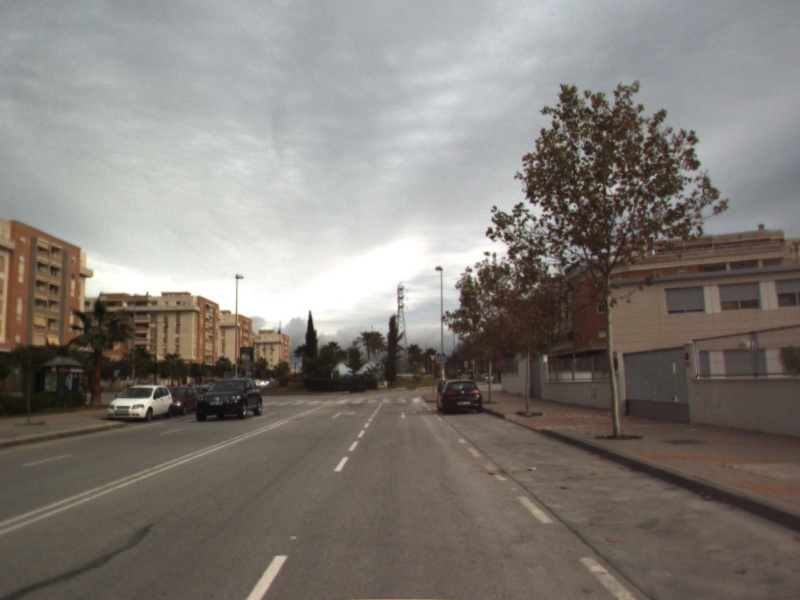RIGHT: (329, 409, 359, 421), (398, 408, 420, 420)
